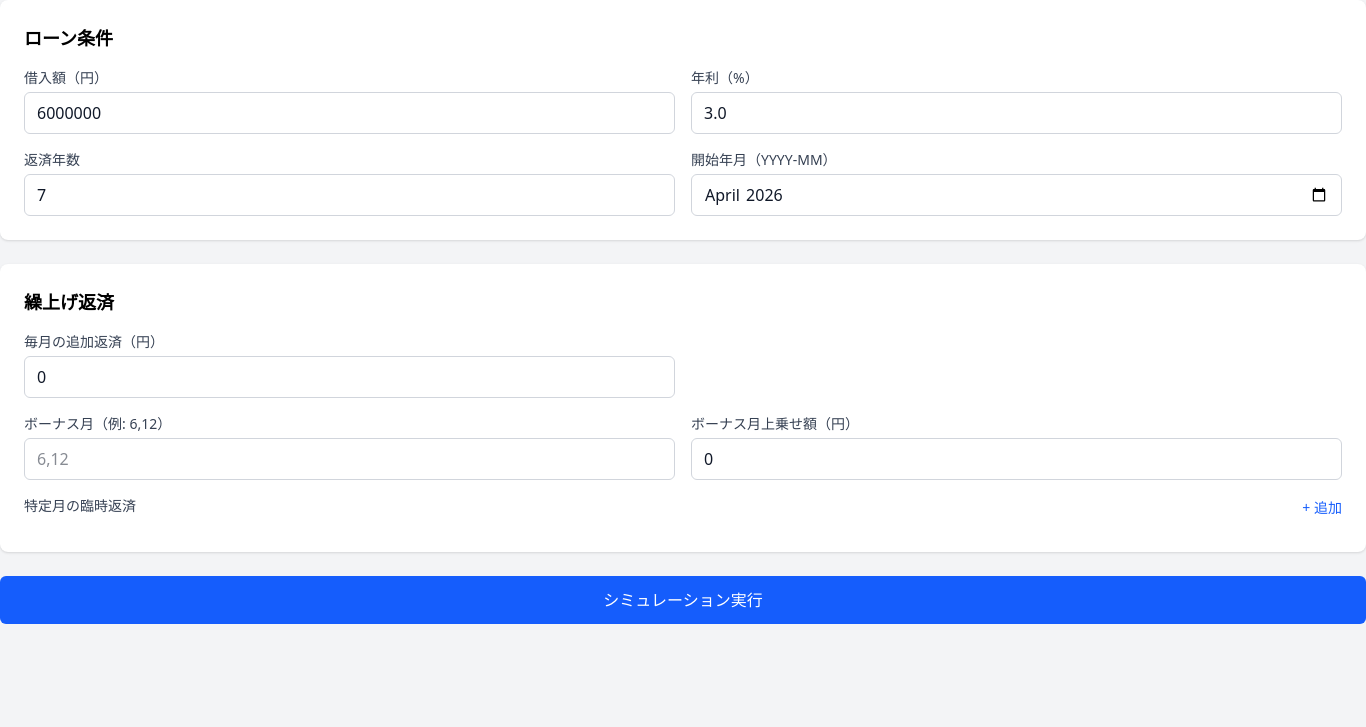
it: LoanForm › 臨時返済の追加・削除 › 複数の臨時返済を追加できる
The image size is (1366, 727).
Click the button "+ 追加". click: (1322, 508)
box: [1302, 498, 1342, 518]
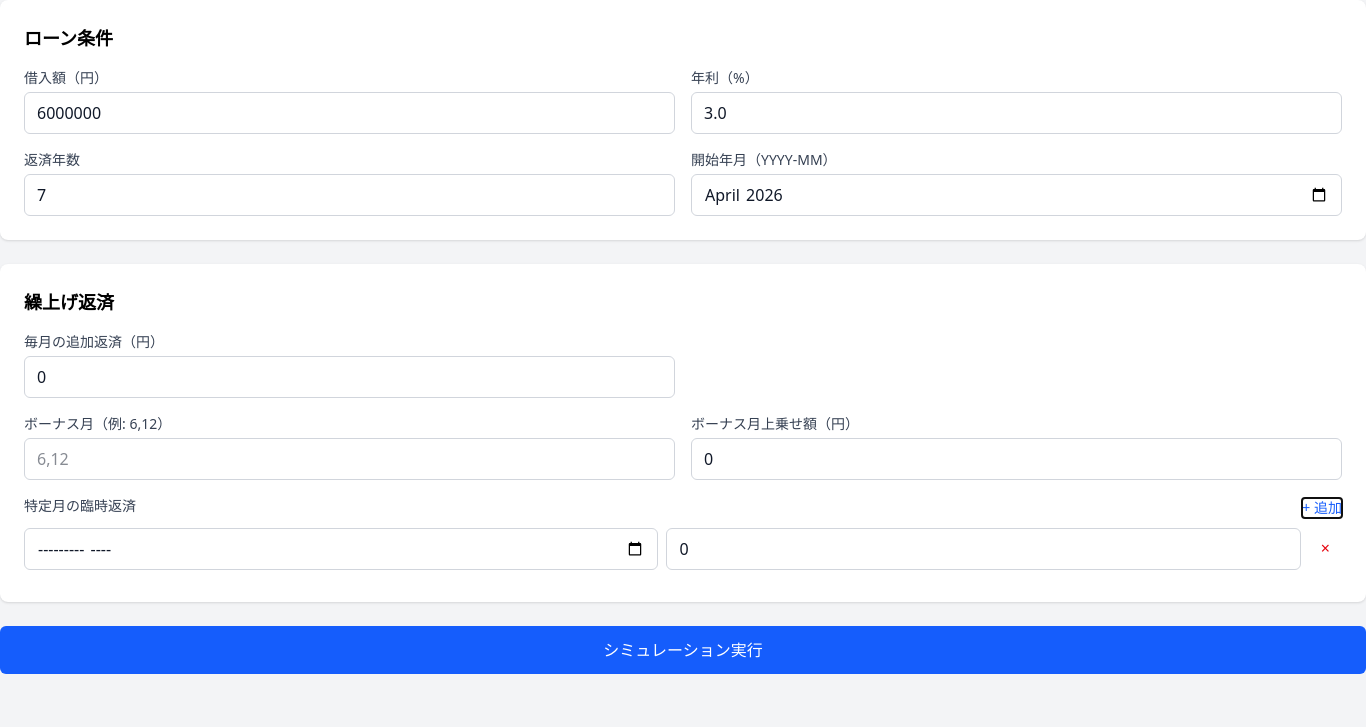
Click the button "+ 追加". click: (1322, 508)
box: [1302, 498, 1342, 518]
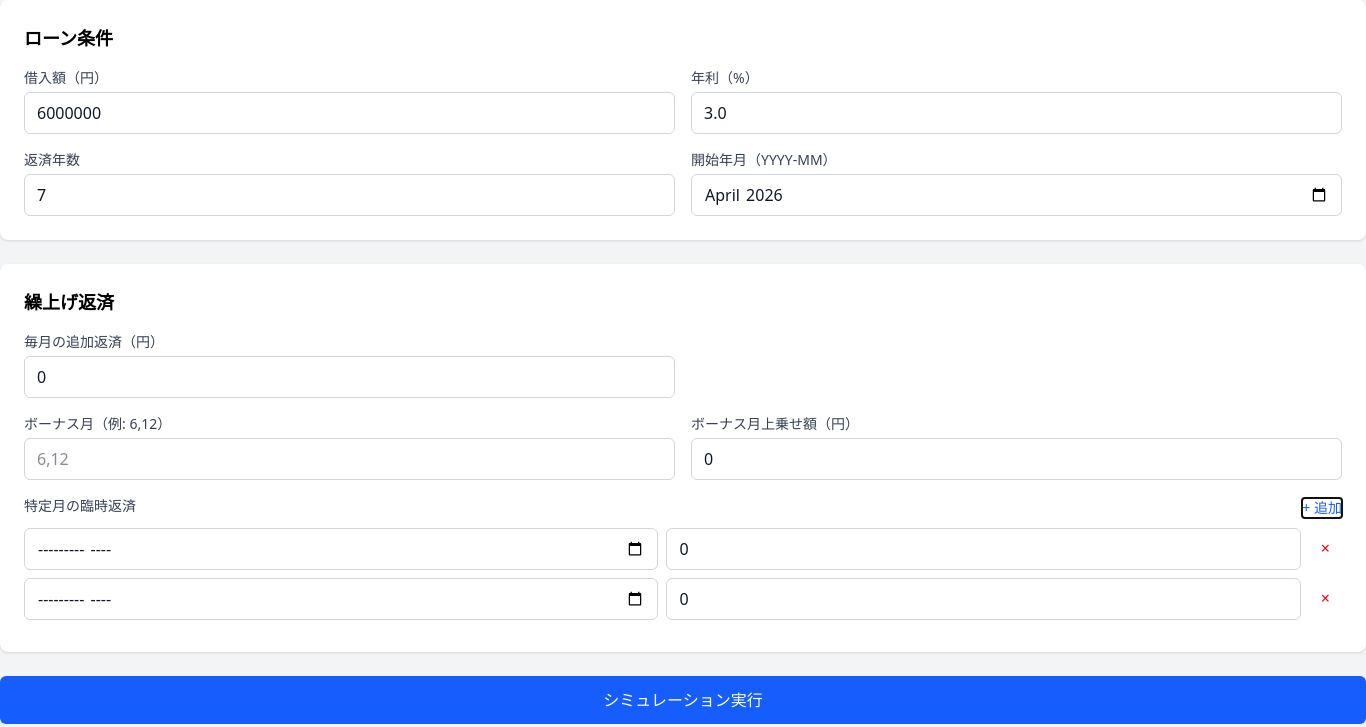
Click the button "+ 追加". click: (1322, 508)
box: [1302, 498, 1342, 518]
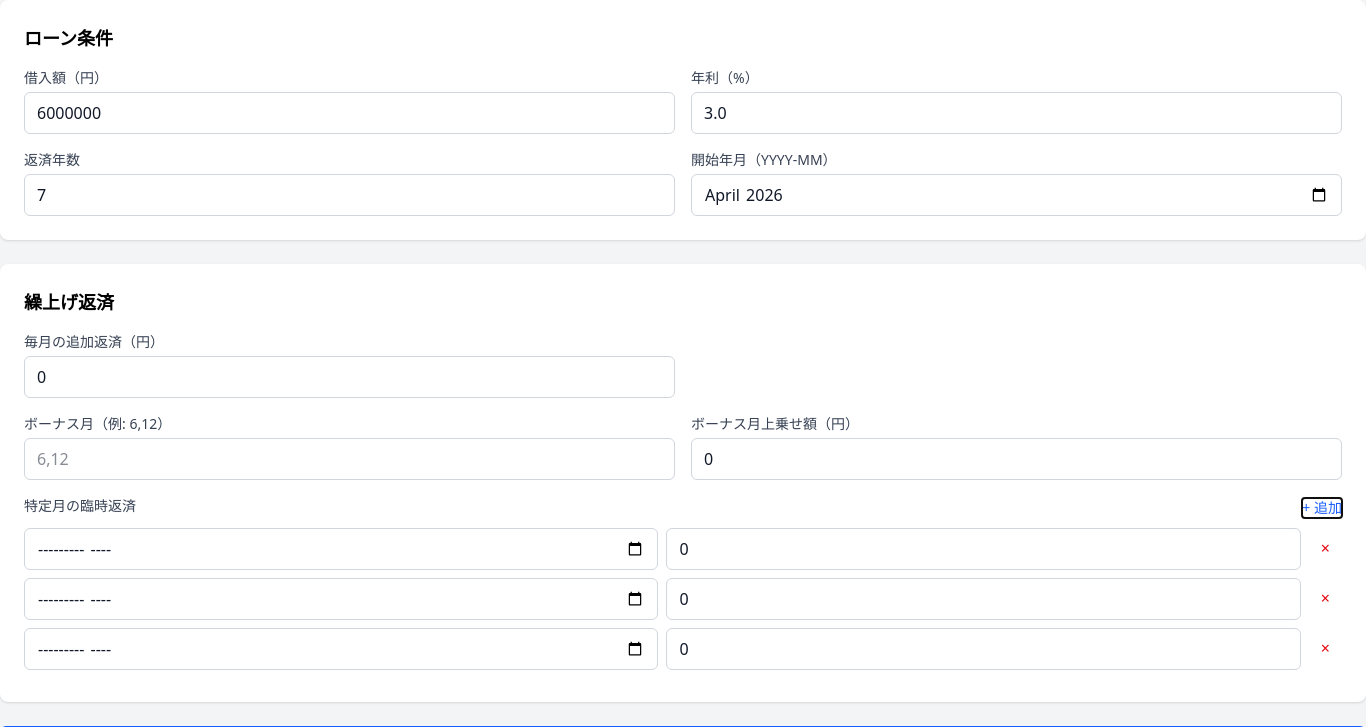
Now the number of fields with placeholder "YYYY-MM" is 3, box [24, 528, 658, 570]; [24, 578, 658, 620]; [24, 628, 658, 670]
